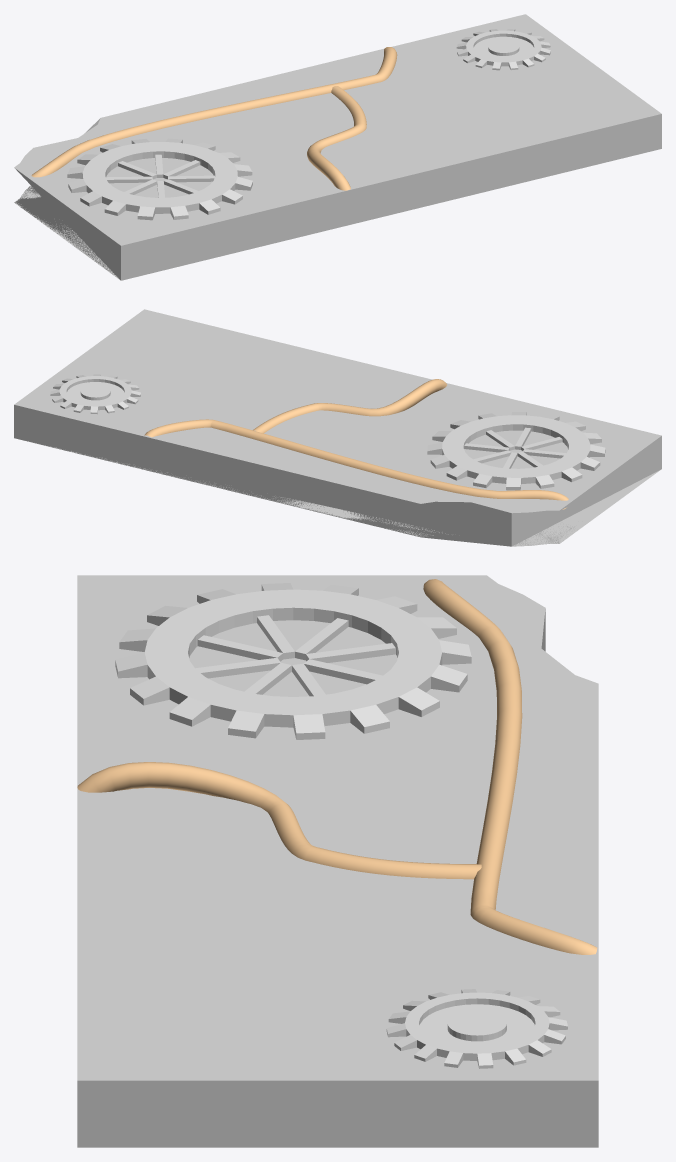
File: WallColorless.fbx
The picture shows the model from 3 angles, top to bottom: view 1: azimuth 30°, elevation 25°; view 2: azimuth 150°, elevation 25°; view 3: azimuth 270°, elevation 25°; orthographic projection. The views are drawn at different scales.
Parts seen in each view (by area): view 1: Cube, Cylinder, BézierCurve, gearA, BézierCurve.001; view 2: Cube, Cylinder, BézierCurve, gearA, BézierCurve.001; view 3: Cube, Cylinder, BézierCurve, gearA, BézierCurve.001.
Boxes of the visible parts, <box> form: Cube: <box>14,14,661,280</box>; Cylinder: <box>67,138,252,220</box>; BézierCurve: <box>31,47,397,177</box>; gearA: <box>456,29,550,70</box>; BézierCurve.001: <box>307,86,366,190</box>; Cube: <box>14,309,661,546</box>; Cylinder: <box>427,412,605,490</box>; BézierCurve: <box>144,419,568,509</box>; gearA: <box>50,374,140,414</box>; BézierCurve.001: <box>253,379,446,433</box>; Cube: <box>77,575,598,1147</box>; Cylinder: <box>115,583,471,739</box>; BézierCurve: <box>423,579,597,954</box>; gearA: <box>386,989,567,1068</box>; BézierCurve.001: <box>77,762,481,879</box>.
Size of the model in its own units: 458 by 38.63 by 200.
